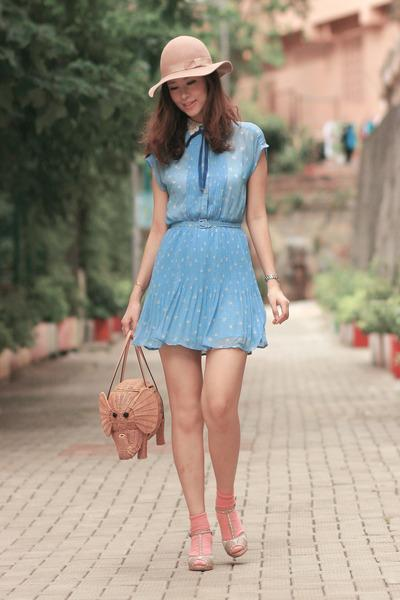bag: (92, 351, 164, 459)
dress: (134, 121, 268, 352)
hat: (158, 36, 227, 83)
shoe: (186, 484, 247, 574)
